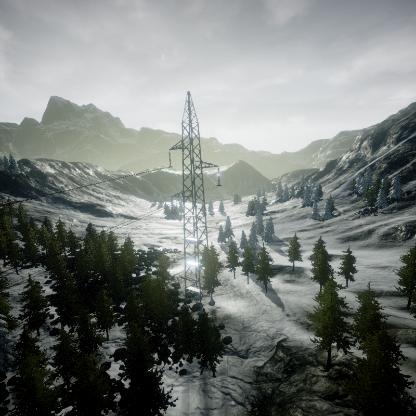tower: (165, 88, 224, 308)
